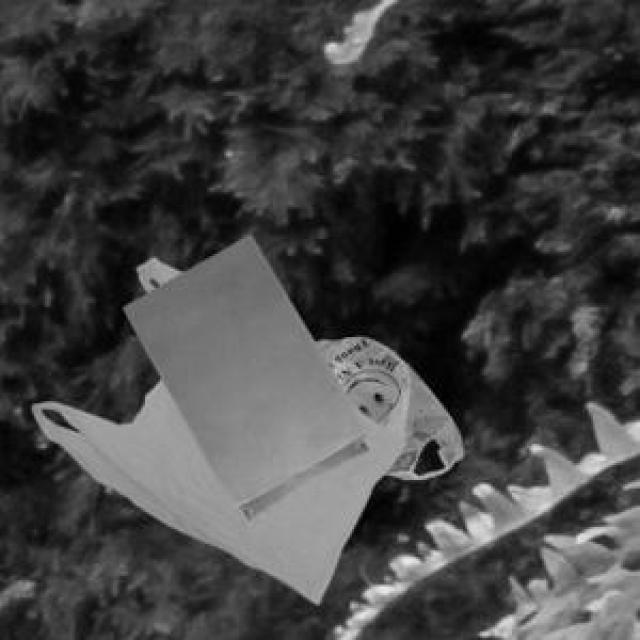paper: (120, 230, 363, 516)
